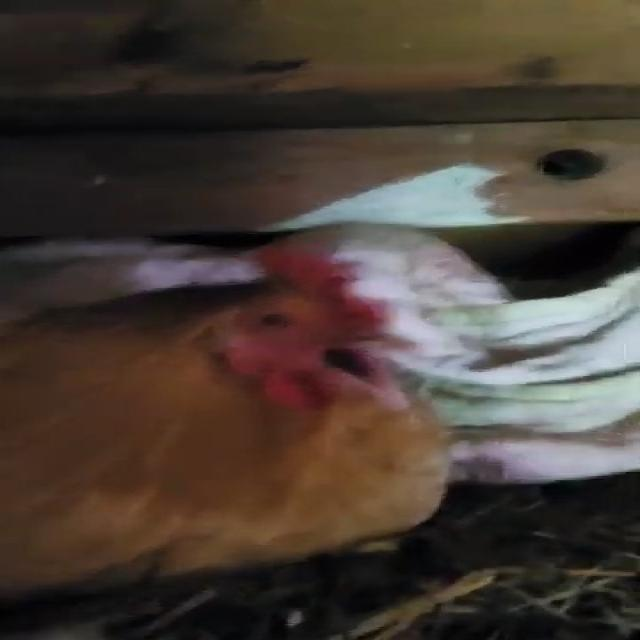menacing: (0, 232, 459, 584)
